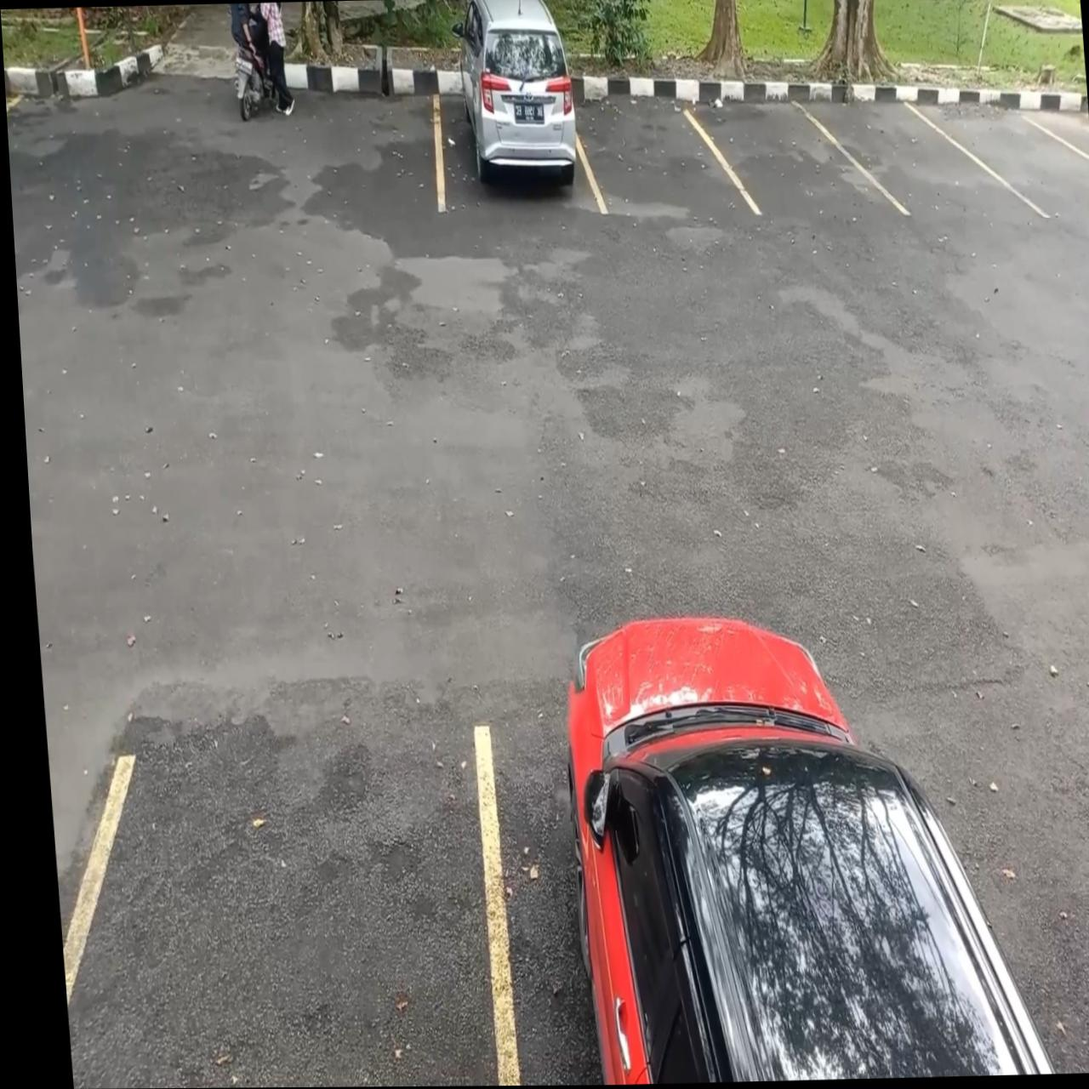cars: (437, 94, 601, 206)
empty: (67, 726, 508, 1086), (795, 101, 1045, 213), (680, 100, 907, 214), (907, 104, 1089, 217), (566, 102, 754, 209)
